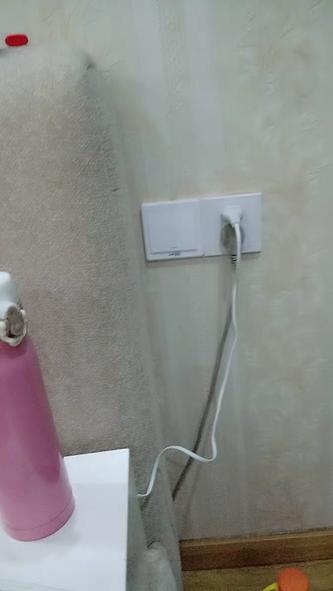switch: (144, 204, 205, 257)
